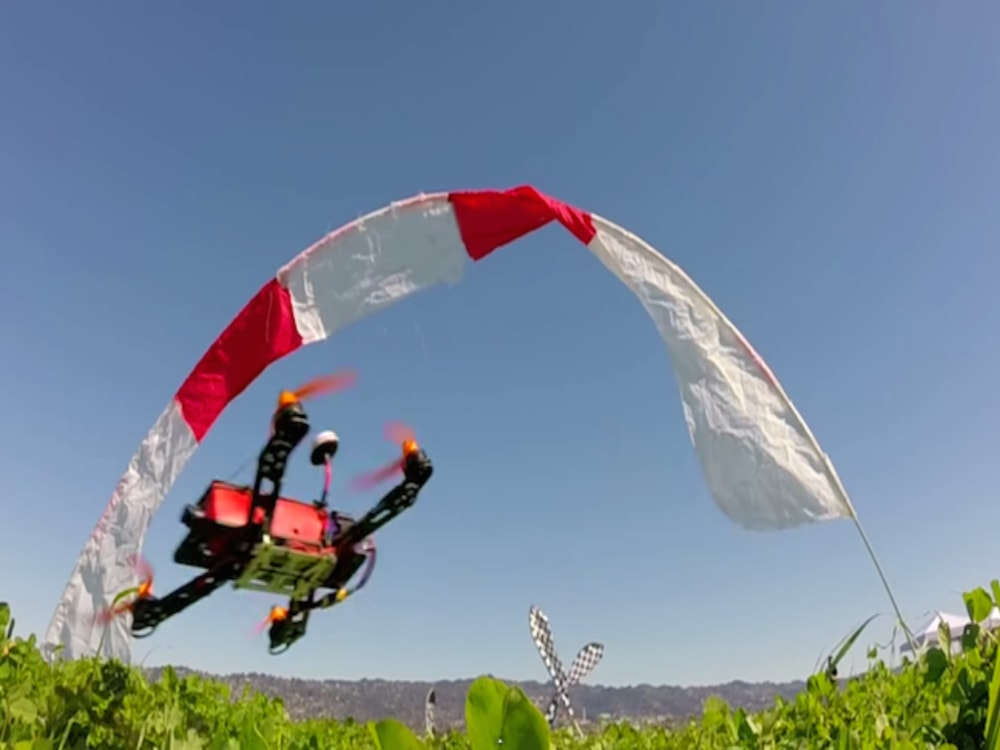drone: (80, 364, 445, 658)
